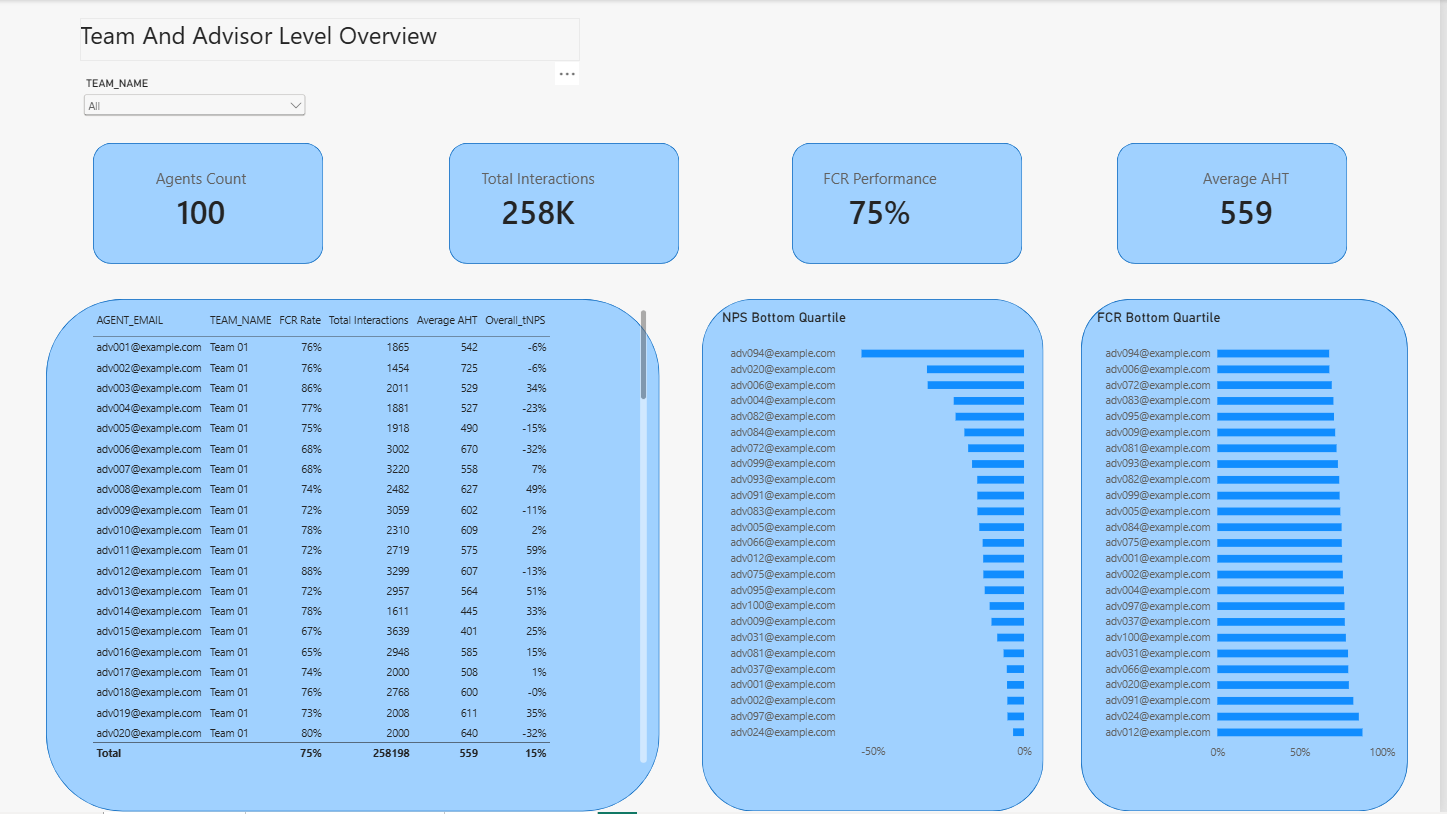

Layout of this report page (visuals, bound fields, positions):
{"tool":"powerbi","page":{"name":"Advisor & Team Performance","canvas":[1920,1080],"ordinal":1},"visuals":[{"type":"shape","box":[66.6,398.2,816.1,681.6],"z":0},{"type":"shape","box":[938.8,398.2,454.3,681.4],"z":62},{"type":"shape","box":[1059.1,190.1,306.2,160.7],"z":125},{"type":"shape","box":[602.9,190.1,306.2,160.7],"z":250},{"type":"shape","box":[1490.9,190.1,306.2,160.7],"z":375},{"type":"shape","box":[129,190.1,306.2,160.7],"z":500},{"type":"shape","box":[1443,398.2,434.6,681.4],"z":1000},{"type":"cardVisual","title":"Agent count","fields":{"Data":["CountNonNull(MART_ADVISOR_PERFORMANCE.AGENT_EMAIL)"]},"box":[112.3,189.7,322.4,154.7],"z":2000},{"type":"cardVisual","fields":{"Data":["MART_ADVISOR_PERFORMANCE.Total Interactions"]},"box":[560.2,189.7,322.4,154.7],"z":3000},{"type":"cardVisual","fields":{"Data":["MART_ADVISOR_PERFORMANCE.FCR Rate"]},"box":[1015.4,189.7,322.4,154.7],"z":4000},{"type":"cardVisual","fields":{"Data":["MART_ADVISOR_PERFORMANCE.Average AHT"]},"box":[1501.3,189.7,322.4,154.7],"z":5000},{"type":"tableEx","fields":{"Values":["MART_ADVISOR_PERFORMANCE.AGENT_EMAIL","MART_ADVISOR_PERFORMANCE.TEAM_NAME","MART_ADVISOR_PERFORMANCE.FCR Rate","MART_ADVISOR_PERFORMANCE.Total Interactions","MART_ADVISOR_PERFORMANCE.Average AHT","MART_ADVISOR_PERFORMANCE.Overall_NPS_cal"]},"box":[112.3,398.3,770.3,633.2],"z":6000},{"type":"clusteredBarChart","title":"NPS Bottom Quartile","fields":{"Category":["MART_ADVISOR_PERFORMANCE.AGENT_EMAIL"],"Y":["MART_ADVISOR_PERFORMANCE.Overall_NPS_cal"]},"box":[949.4,398.2,443.7,632.9],"z":7000},{"type":"slicer","fields":{"Values":["MART_ADVISOR_PERFORMANCE.TEAM_NAME"]},"box":[112.3,102.1,304.9,54],"z":8000},{"type":"clusteredBarChart","title":"FCR Bottom Quartile","fields":{"Category":["MART_ADVISOR_PERFORMANCE.AGENT_EMAIL"],"Y":["MART_ADVISOR_PERFORMANCE.FCR Rate"]},"box":[1448.8,398.3,428.9,633.2],"z":9000},{"type":"textbox","box":[112.3,23.3,663.8,58.4],"z":10000}]}

Visuals, with their boxes in screenshot pixels (x1, y1, x2, y2), scaled from the page's 1920x1080 canvas onto the 1447x814 screenshot:
shape: detection(50, 300, 665, 813)
shape: detection(708, 300, 1050, 813)
shape: detection(798, 143, 1029, 264)
shape: detection(454, 143, 685, 264)
shape: detection(1124, 143, 1354, 264)
shape: detection(97, 143, 328, 264)
shape: detection(1088, 300, 1415, 813)
"Agent count" cardVisual: detection(85, 143, 328, 260)
cardVisual - MART_ADVISOR_PERFORMANCE.Total Interactions: detection(422, 143, 665, 260)
cardVisual - MART_ADVISOR_PERFORMANCE.FCR Rate: detection(765, 143, 1008, 260)
cardVisual - MART_ADVISOR_PERFORMANCE.Average AHT: detection(1131, 143, 1374, 260)
tableEx - MART_ADVISOR_PERFORMANCE.AGENT_EMAIL x MART_ADVISOR_PERFORMANCE.TEAM_NAME: detection(85, 300, 665, 777)
"NPS Bottom Quartile" clusteredBarChart: detection(716, 300, 1050, 777)
slicer - MART_ADVISOR_PERFORMANCE.TEAM_NAME: detection(85, 77, 314, 118)
"FCR Bottom Quartile" clusteredBarChart: detection(1092, 300, 1415, 777)
textbox: detection(85, 18, 585, 62)
